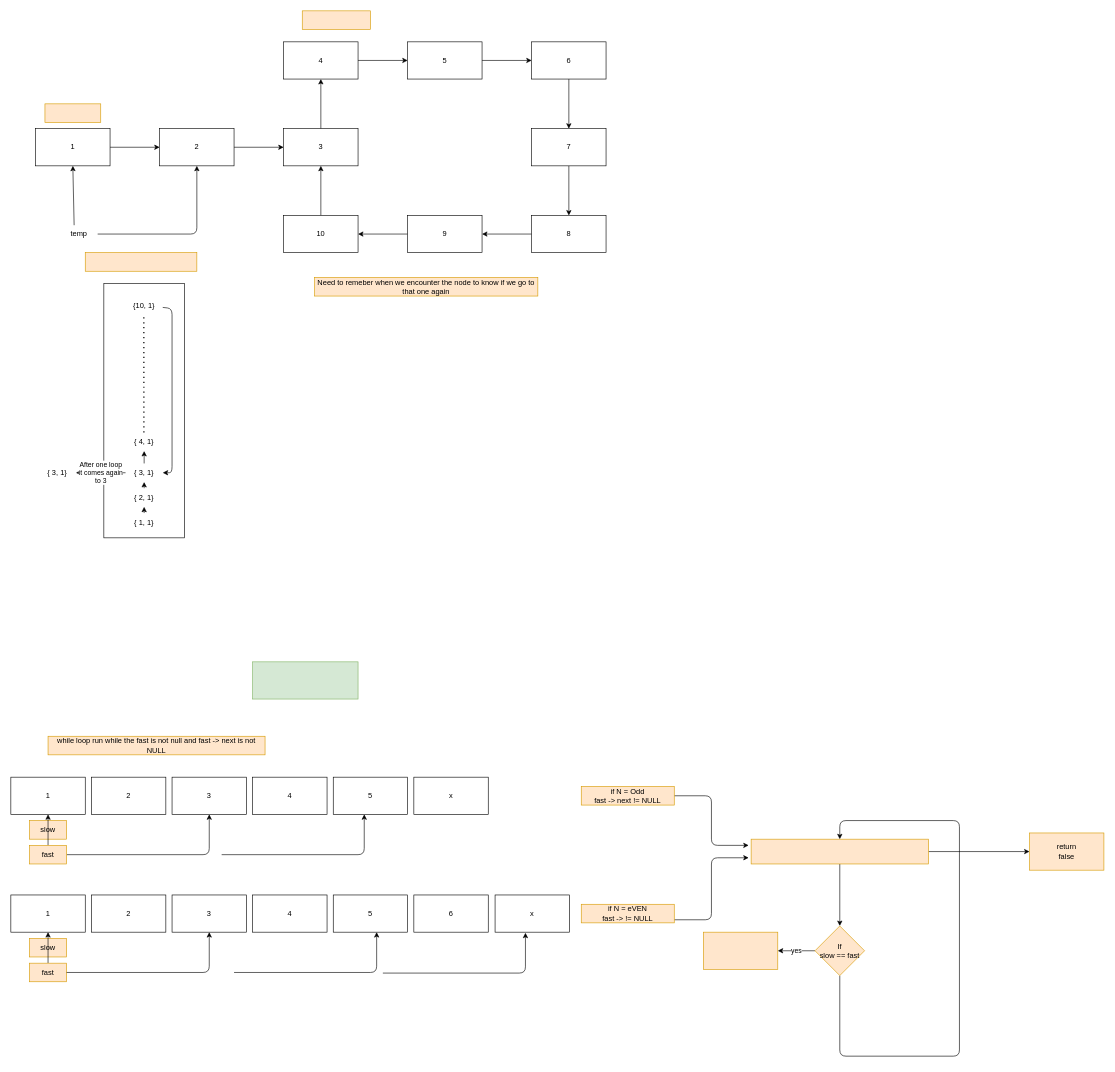
Some shapes in this 1115 by 1072 pixel diagram are drawn without their labels. The box of each missing label's shape, as (x1, y1, x2, y2) in pixels:
Detect a loop: (302, 10, 370, 29)
Head: (44, 103, 101, 122)
Method 2 Hare and Tortoiise: (252, 661, 358, 699)
return YES: (703, 932, 778, 969)
traverse the temp and store the location using the hashing: (85, 252, 197, 271)
While fast != NULL && fast -> next ! = NULL: (751, 839, 928, 864)
